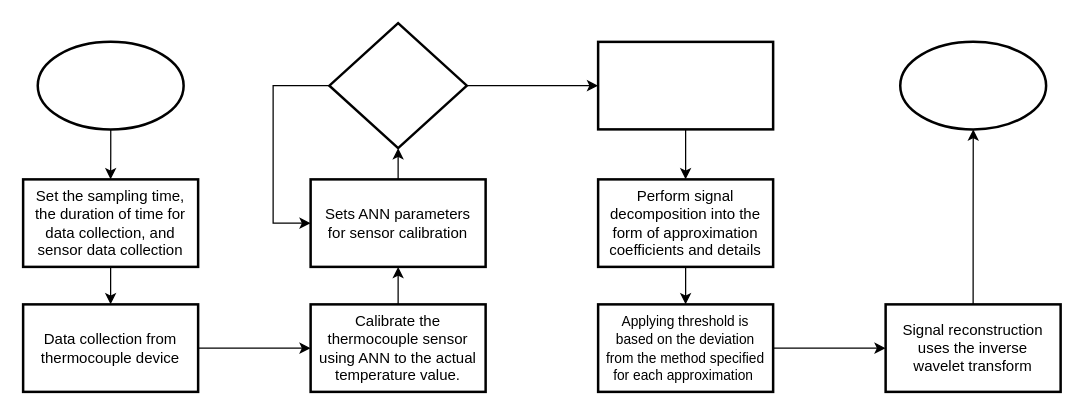
The diagram is 1083 pixels wide and 414 high, and some of its shapes have lost their labels. The shapes that lost their labels are listed below. From the top down, each one's box as (x1, y1, x2, y2) in pixels, then its label:
(36, 40, 184, 130): Start
(328, 21, 468, 149): Has the best MAE been achieved?
(596, 40, 774, 130): Set the required parameters of the wavelet transform in the denoising process
(898, 40, 1047, 130): End
